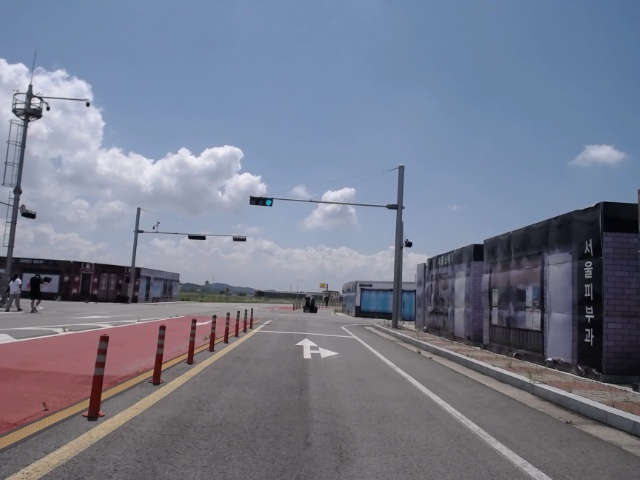green_3: (249, 198, 272, 205)
